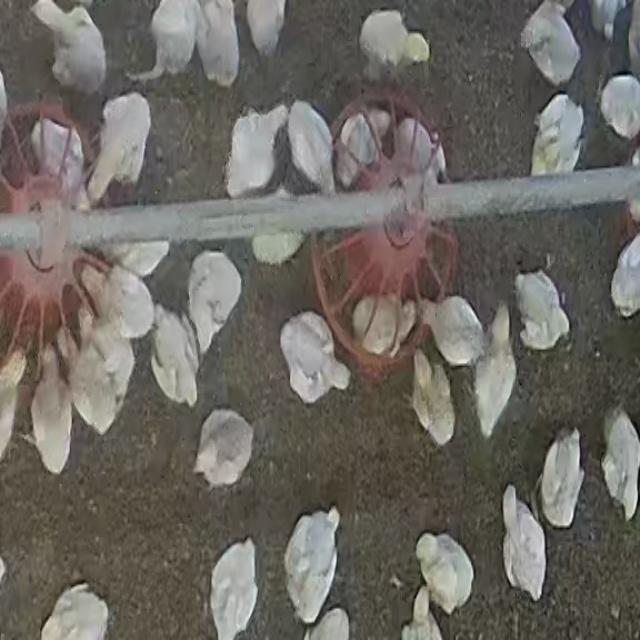chicken: (85, 92, 152, 204), (279, 311, 353, 404), (283, 507, 341, 625), (183, 250, 246, 352), (28, 342, 74, 475), (224, 106, 288, 200), (78, 261, 156, 338), (473, 308, 518, 441), (520, 2, 580, 88), (154, 304, 203, 408), (286, 97, 338, 195), (416, 530, 475, 616), (209, 538, 259, 639), (501, 488, 546, 599), (337, 101, 394, 188), (194, 410, 254, 490), (349, 290, 418, 359), (422, 295, 486, 367), (537, 429, 583, 529), (601, 406, 640, 523), (530, 95, 586, 176), (515, 269, 570, 350), (411, 348, 455, 448), (398, 113, 453, 185), (598, 72, 640, 142), (609, 223, 640, 316)
